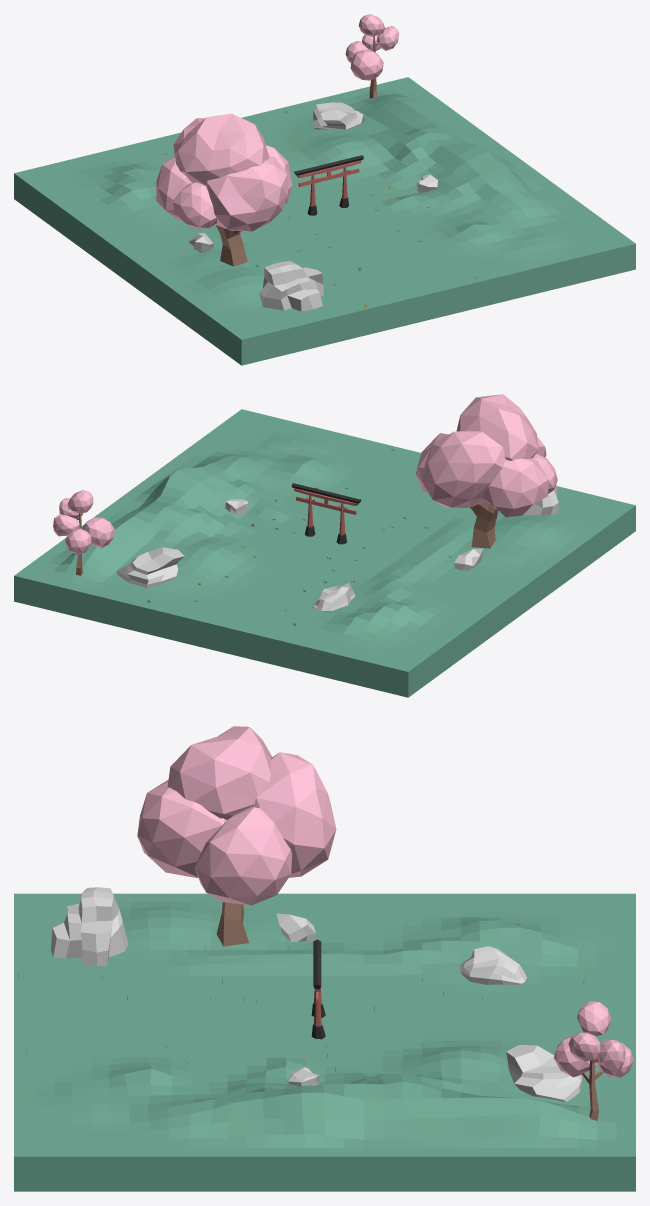
Rendered from fushimi_inari_toon.glb.
The picture shows the model from 3 angles, top to bottom: view 1: azimuth 30°, elevation 25°; view 2: azimuth 150°, elevation 25°; view 3: azimuth 270°, elevation 25°; orthographic projection. The views are drawn at different scales.
Parts seen in each view (by area): view 1: Garden, OakTree3, BigRock3, OakTree2, Torii, Rock_20; view 2: Garden, OakTree3, OakTree2, Rock_20, Torii, Rock3, BigRock3, Rock2; view 3: Garden, OakTree3, BigRock3, OakTree2, Rock_20, Rock3, Torii, Rock2.
Part boxes in pixels (x1,y1,x2,y2): Garden: [14, 77, 635, 365]; OakTree3: [156, 113, 292, 266]; BigRock3: [259, 261, 323, 311]; OakTree2: [345, 14, 398, 98]; Torii: [294, 155, 363, 215]; Rock_20: [313, 102, 364, 129]; Garden: [14, 409, 635, 697]; OakTree3: [415, 394, 557, 548]; OakTree2: [53, 490, 114, 575]; Rock_20: [117, 547, 184, 588]; Torii: [291, 483, 360, 544]; Rock3: [312, 583, 355, 611]; BigRock3: [523, 485, 558, 515]; Rock2: [454, 548, 483, 570]; Garden: [14, 893, 635, 1191]; OakTree3: [137, 726, 336, 946]; BigRock3: [51, 887, 128, 965]; OakTree2: [554, 1001, 633, 1120]; Rock_20: [506, 1045, 582, 1101]; Rock3: [459, 946, 526, 984]; Torii: [311, 939, 325, 1039]; Rock2: [276, 913, 315, 942].
Bounding box in the file's own units: 16 × 6.76 × 16.
